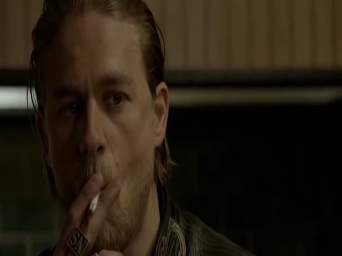smoke: (86, 189, 102, 215)
